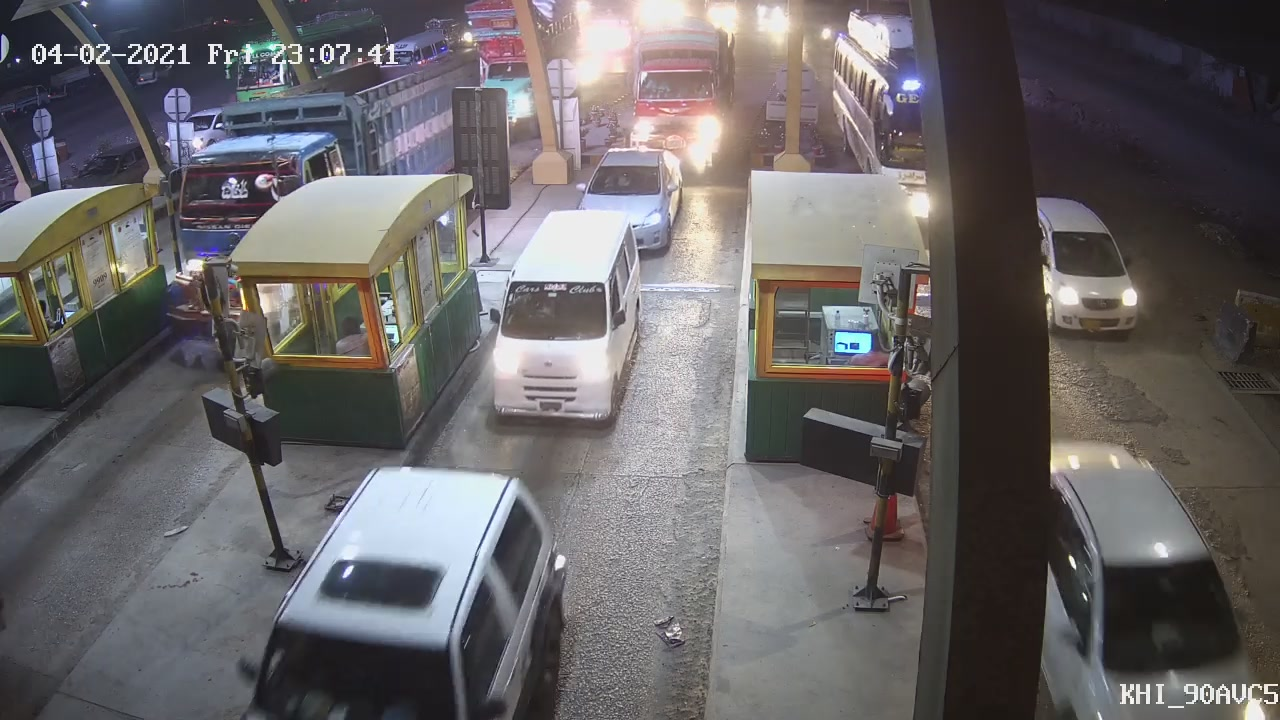F2: (480, 208, 650, 426)
